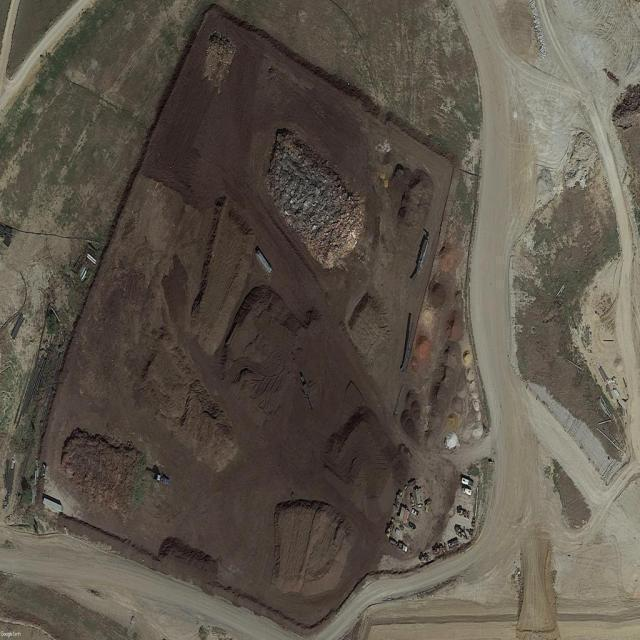dump_site: (256, 119, 371, 282), (13, 309, 74, 445), (527, 129, 606, 212), (376, 152, 436, 236), (197, 29, 240, 98), (528, 0, 547, 59)
